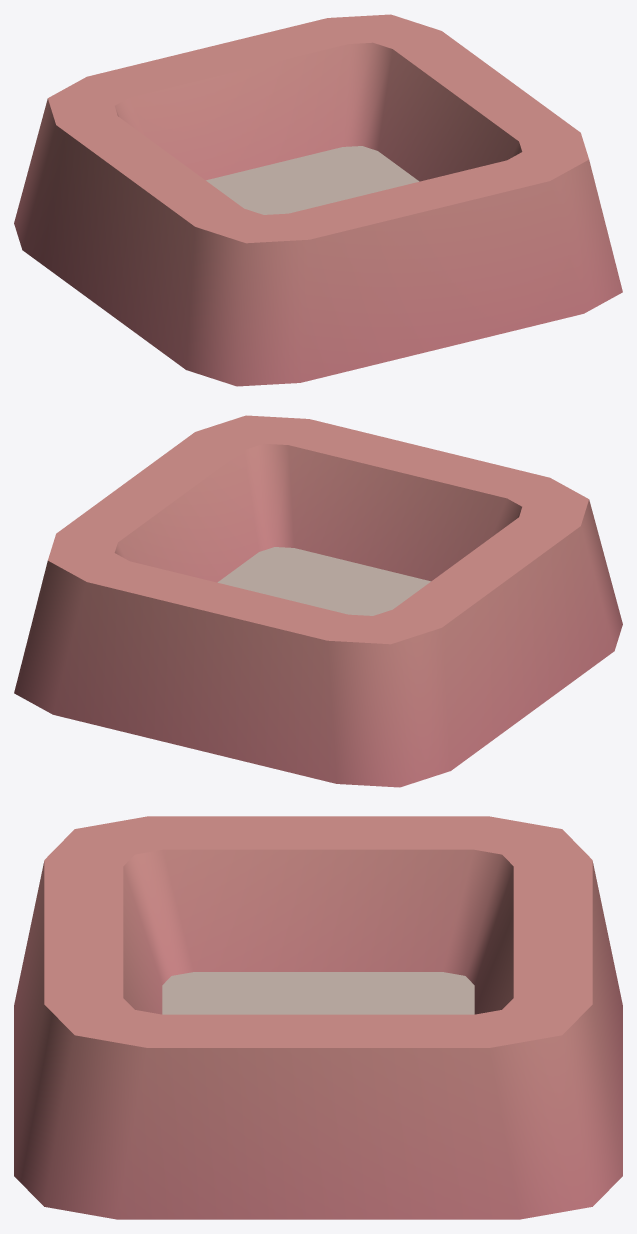
The model's file is pet-food-square.glb.
The picture shows the model from 3 angles, top to bottom: view 1: azimuth 30°, elevation 25°; view 2: azimuth 150°, elevation 25°; view 3: azimuth 270°, elevation 25°; orthographic projection. The views are drawn at different scales.
Visible parts, largest first — view 1: pet-food-square; view 2: pet-food-square; view 3: pet-food-square.
Part boxes in pixels (left/top/right/bottom): pet-food-square: left=14, top=14, right=622, bottom=386; pet-food-square: left=14, top=415, right=622, bottom=787; pet-food-square: left=14, top=816, right=622, bottom=1219.
Bounding box in the file's own units: 0.3 × 0.0862 × 0.3.
